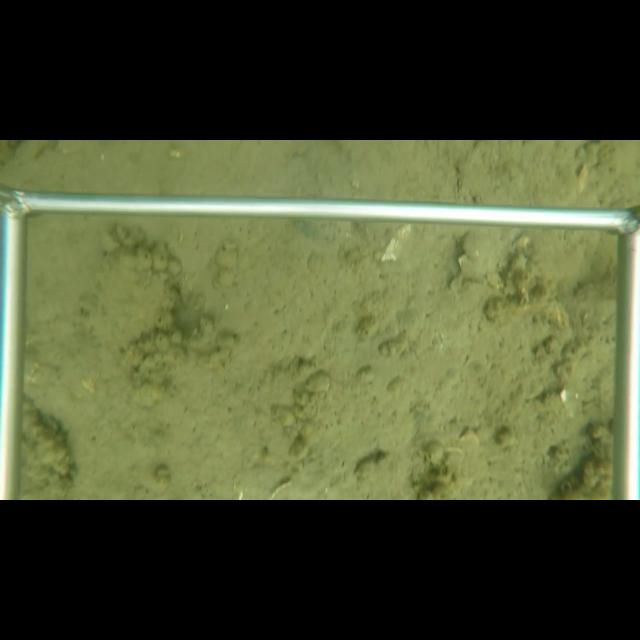Oyster-Closed: (446, 231, 518, 291)
